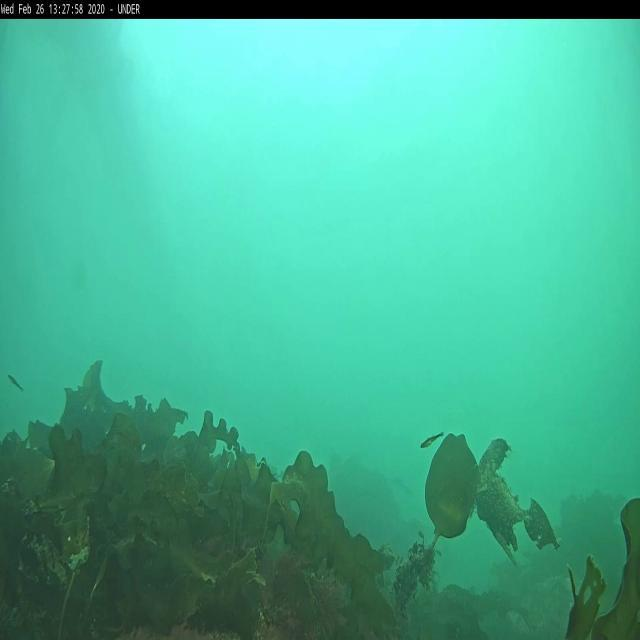fish: (419, 430, 444, 448), (8, 373, 24, 394)
